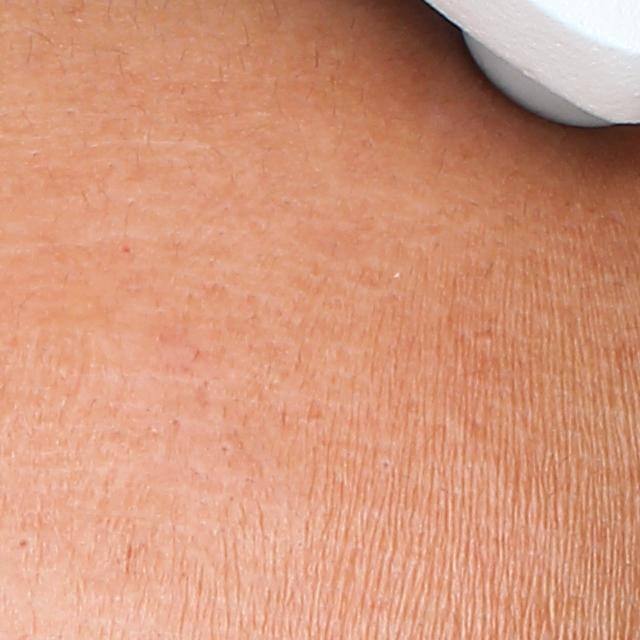comedo: (15, 535, 32, 550), (217, 442, 232, 459)
